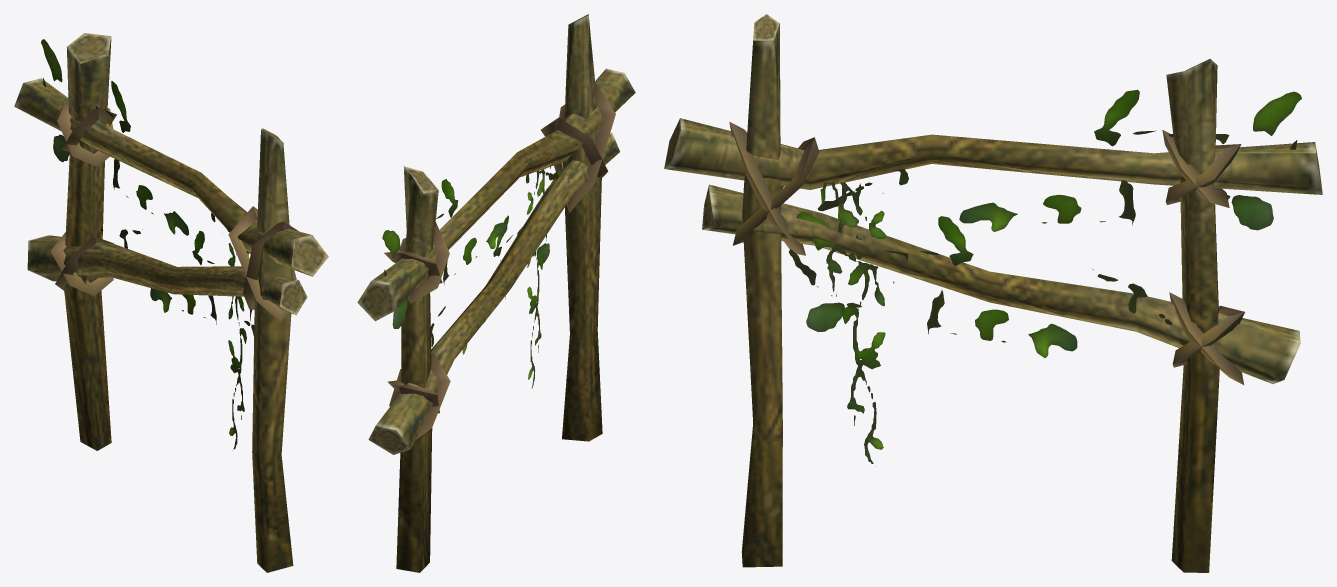
The model's file is OT_ZJ_langan002 #1162148.fbx.
3 renders of one model, left to right at view 1: azimuth 30°, elevation 25°; view 2: azimuth 150°, elevation 25°; view 3: azimuth 270°, elevation 25°, orthographic. The views are drawn at different scales.
Visible parts, largest first — view 1: OT_ZJ_langan002; view 2: OT_ZJ_langan002; view 3: OT_ZJ_langan002.
Part boxes in pixels (<box>): OT_ZJ_langan002: <box>14,33,328,572</box>; OT_ZJ_langan002: <box>357,14,635,572</box>; OT_ZJ_langan002: <box>664,14,1322,572</box>.
Bounding box in the file's own units: 0.3507 × 2.31 × 2.52.
2 materials, 2 textured.
